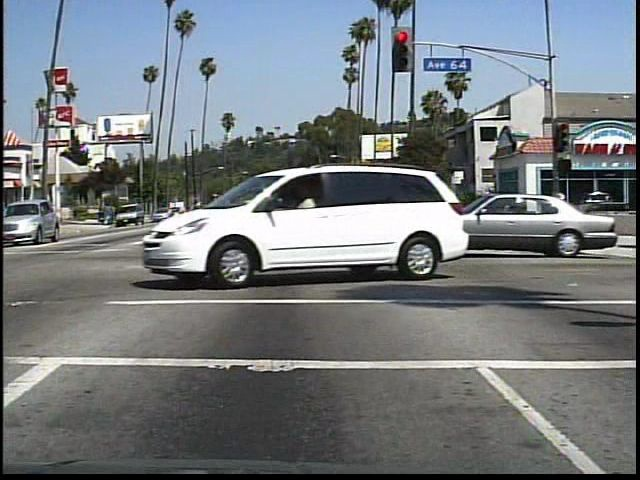person: (547, 187, 574, 238)
